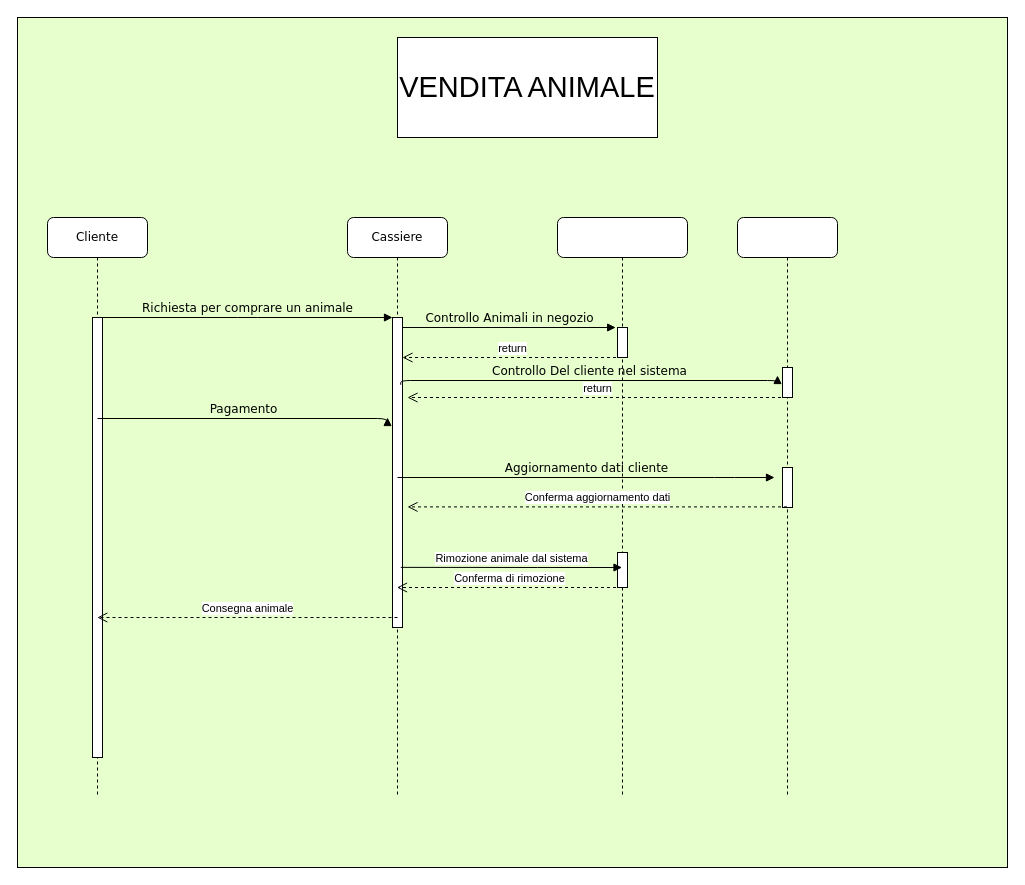
Image size: 1025x885. Some labels were removed from this diagram. Each missing label, with the centre of its shape:
"SIS Animali" belongs at point (622, 507).
"Sistema Clienti" belongs at point (787, 507).
